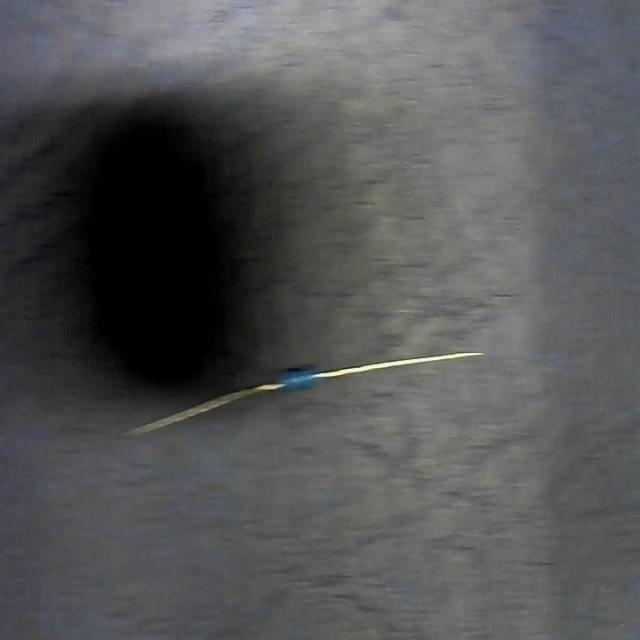resistor: (124, 347, 479, 422)
